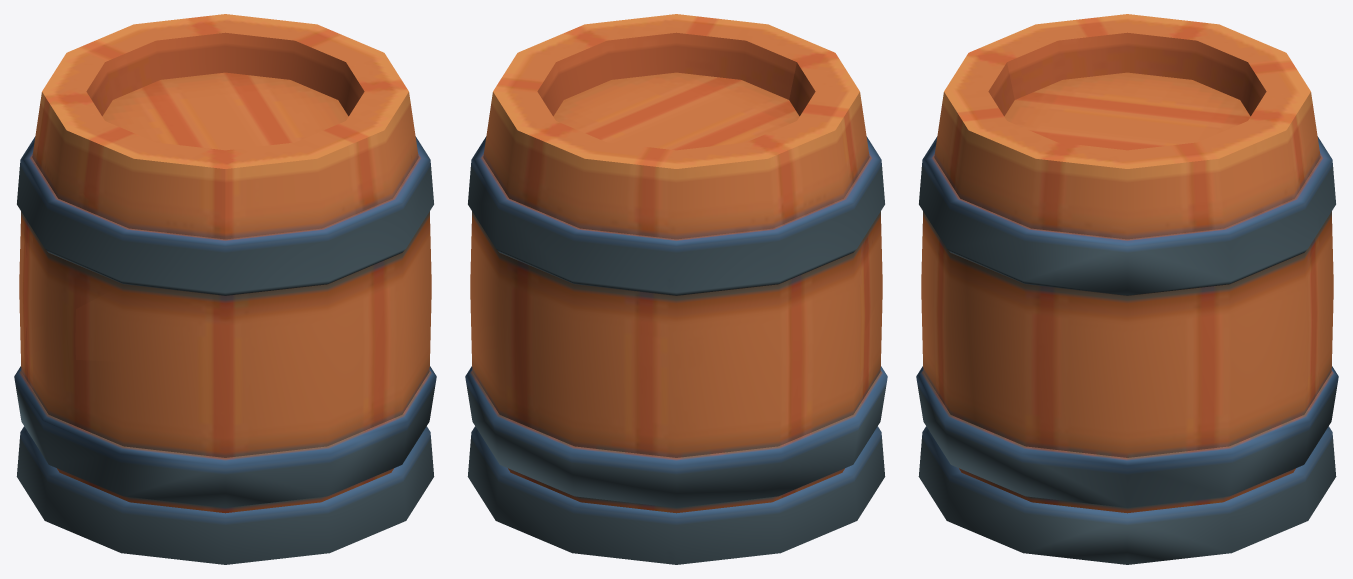
File: barrels4.fbx
3 renders of one model, left to right at view 1: azimuth 30°, elevation 25°; view 2: azimuth 150°, elevation 25°; view 3: azimuth 270°, elevation 25°, orthographic.
Parts seen in each view (by area): view 1: barrels4; view 2: barrels4; view 3: barrels4.
Part boxes in pixels (x1=…): barrels4: x1=14, y1=14, x2=436, y2=564; barrels4: x1=465, y1=14, x2=887, y2=564; barrels4: x1=916, y1=14, x2=1338, y2=564.
Size of the model in its own units: 2.7 by 2.75 by 2.7.
Materials: 1 (1 with a texture image).
